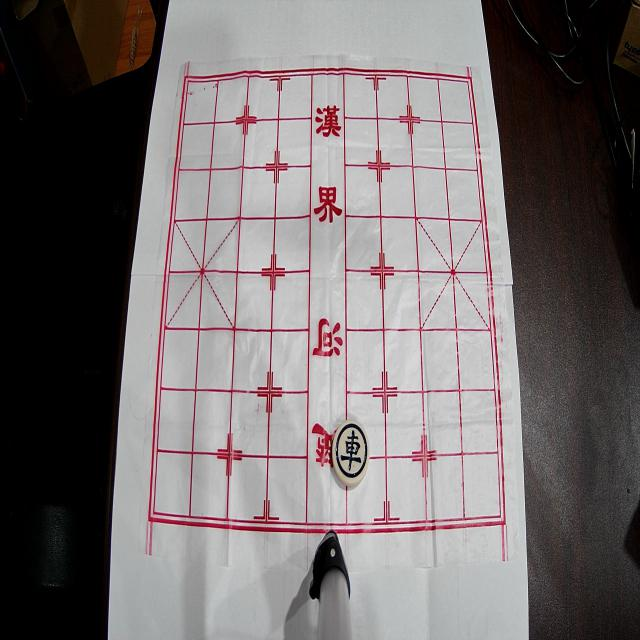black-chariot: (332, 419, 370, 486)
